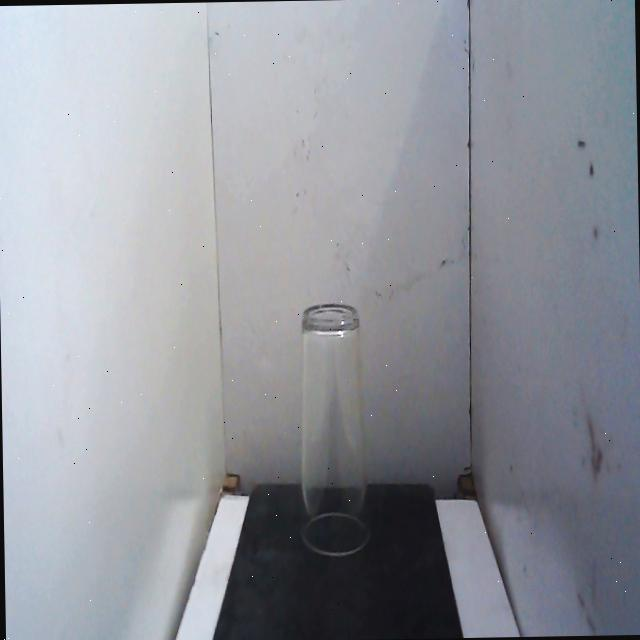vidro: (280, 290, 382, 572)
